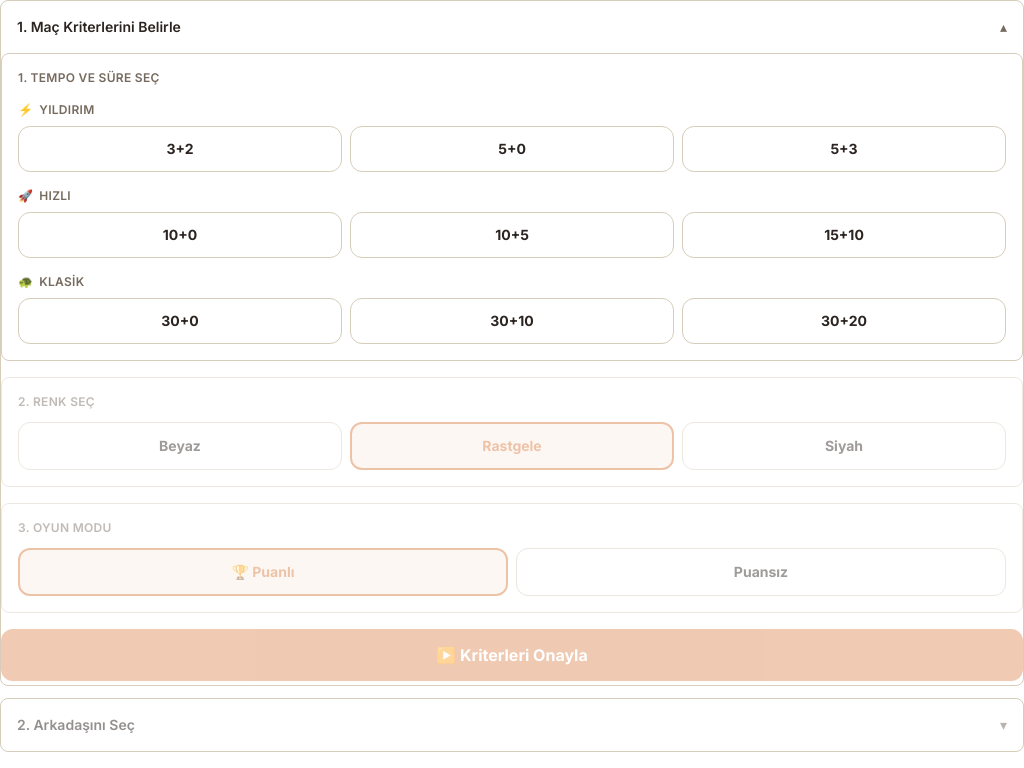
Test: FriendChallenge › liste yüklenemezse hata mesajı gösterilir
Click the button "5+0". click: click(512, 149)
box: [350,126,674,172]
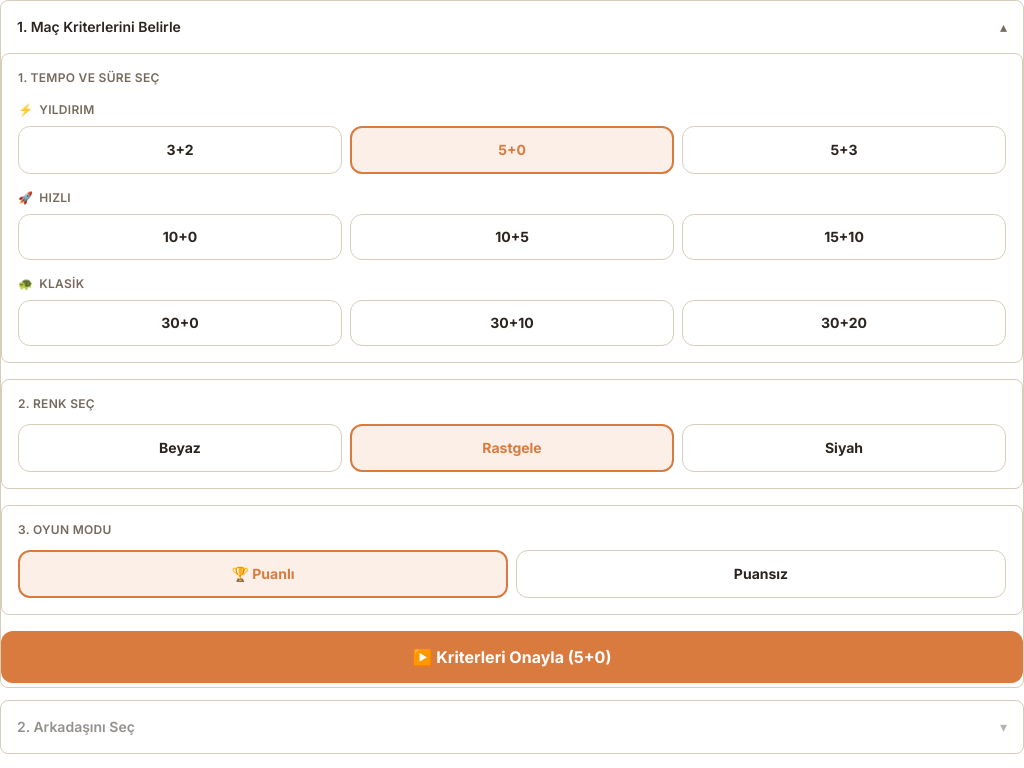
Click the button "▶️ Kriterleri Onayla (5+0)". click: click(512, 657)
box: [1,631,1023,683]
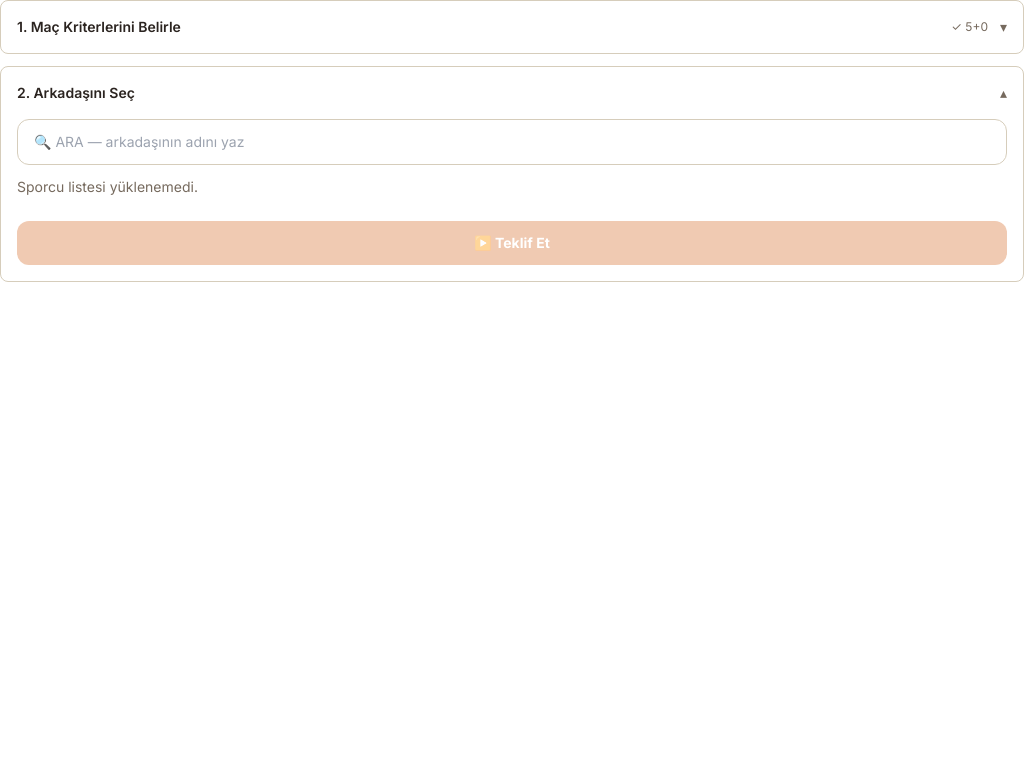
Expected: the text "Sporcu listesi yüklenemedi." is shown, [17,178,198,195]
